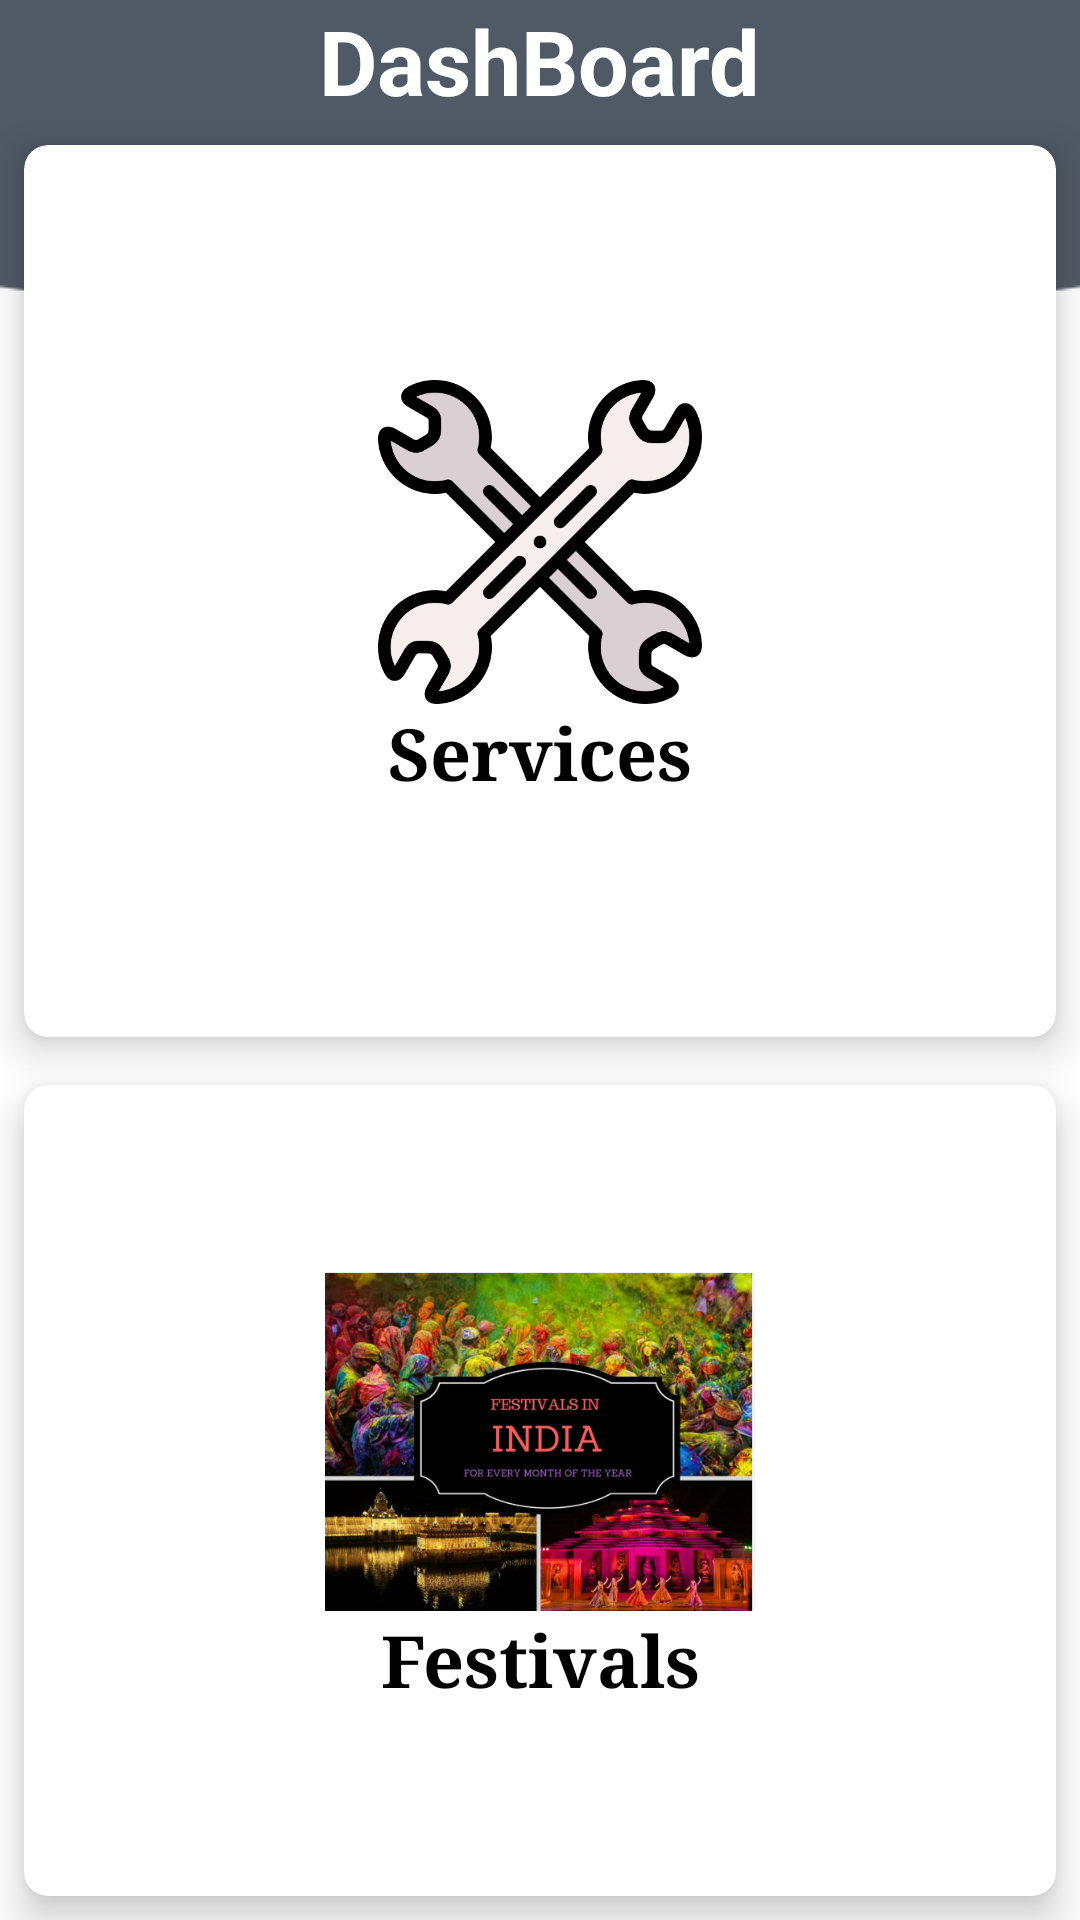

Icon click points for this 1080px×1920px phone screenshot, format (x,y):
wrench: (540,542)
